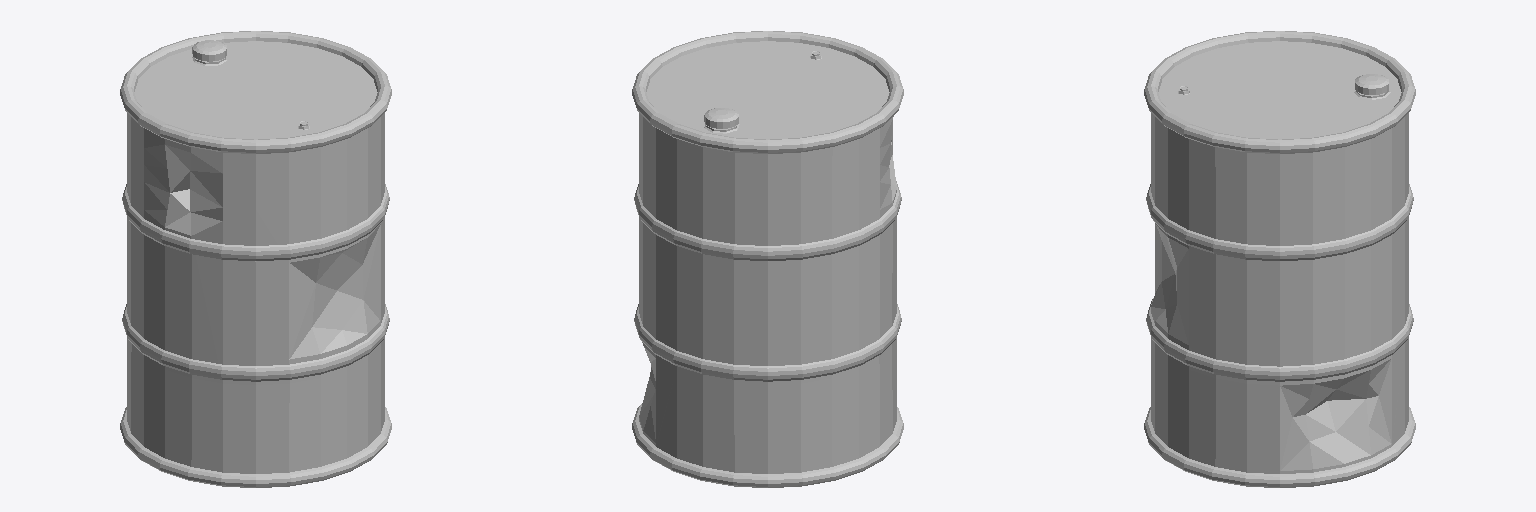
The model's file is tris.obj.
The picture shows the model from 3 angles: view 1: azimuth 30°, elevation 25°; view 2: azimuth 150°, elevation 25°; view 3: azimuth 270°, elevation 25°; orthographic projection.
Parts seen in each view (by area): view 1: tris; view 2: tris; view 3: tris.
Boxes of the visible parts, box(x1,y1,x2,y2) form: tris: box(120, 31, 391, 487); tris: box(632, 31, 903, 487); tris: box(1144, 31, 1415, 487).
Bounding box in the file's own units: 74.03 × 106 × 74.03.